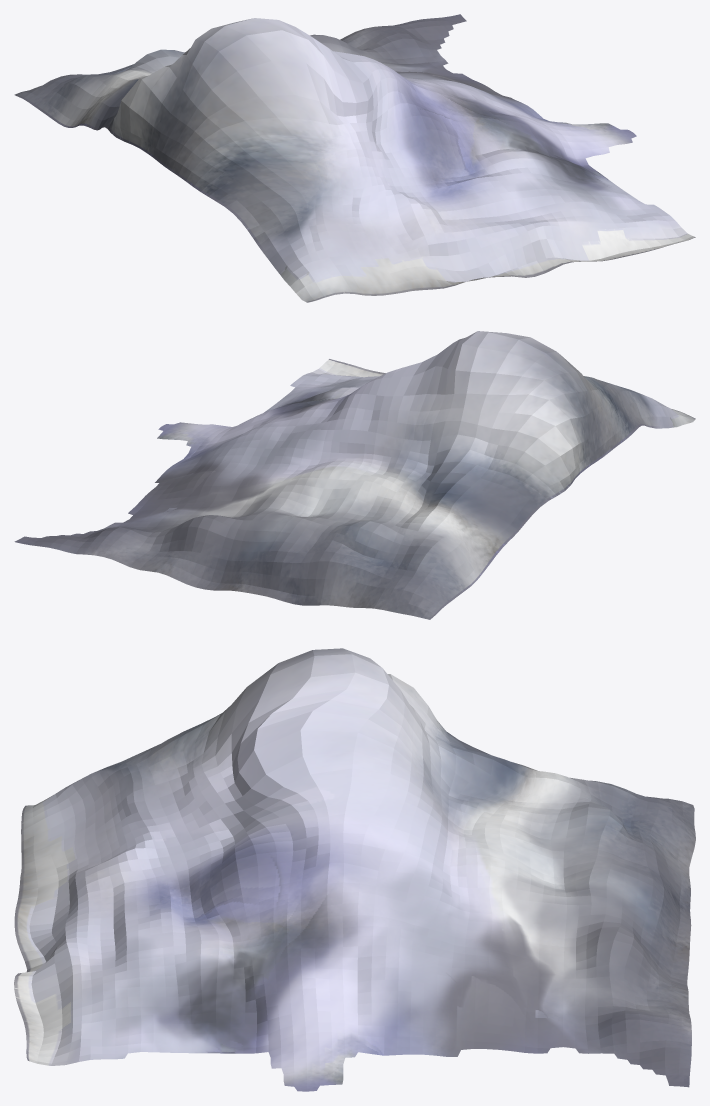
Rendered from hill 1.fbx.
The picture shows the model from 3 angles, top to bottom: view 1: azimuth 30°, elevation 25°; view 2: azimuth 150°, elevation 25°; view 3: azimuth 270°, elevation 25°; orthographic projection. The views are drawn at different scales.
Parts seen in each view (by area): view 1: Plane; view 2: Plane; view 3: Plane.
Part boxes in pixels (left/top/right/bottom): Plane: left=14, top=14, right=695, bottom=302; Plane: left=14, top=331, right=695, bottom=619; Plane: left=14, top=648, right=695, bottom=1091.
Size of the model in its own units: 4759 by 1883 by 5117.
